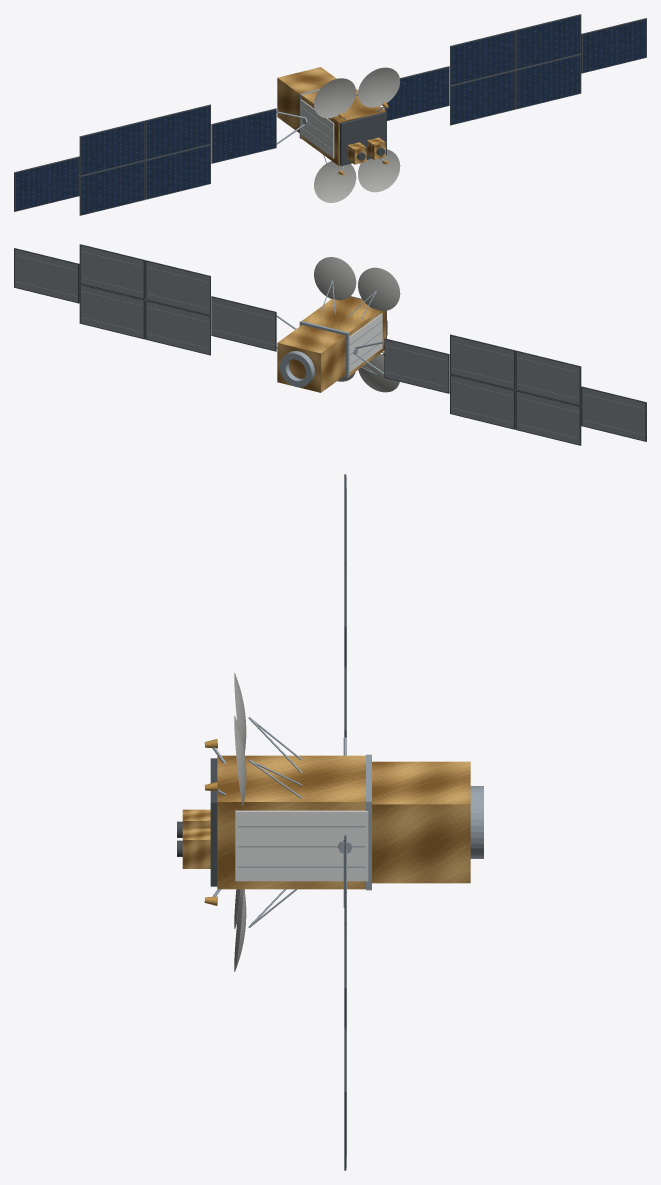
File: ref-eurostar-neo-54048.glb
3 renders of one model, top to bottom at view 1: azimuth 30°, elevation 25°; view 2: azimuth 150°, elevation 25°; view 3: azimuth 270°, elevation 25°, orthographic. The views are drawn at different scales.
Parts seen in each view (by area): view 1: Solar cell panel (×12), Communications reflector (×4), Solar panel frame (×11), Service module, Earth-facing deck, Radiator face, Payload module, Communications feed assembly (×2); view 2: Rear array substrate (×12), Solar panel frame (×12), Communications reflector (×3), Service module, Payload module, Radiator face, Launch adapter ring, Module interface; view 3: Service module, Payload module, Radiator face, Communications feed assembly, Launch adapter ring, Earth-facing deck.
Boxes of the visible parts, x1,y1,x2,y2 form: Solar cell panel (×12): [15, 15, 645, 214]; Communications reflector (×4): [314, 67, 400, 202]; Solar panel frame (×11): [14, 14, 646, 215]; Service module: [277, 67, 336, 132]; Earth-facing deck: [339, 112, 386, 165]; Radiator face: [300, 99, 334, 158]; Payload module: [301, 89, 386, 165]; Communications feed assembly (×2): [347, 137, 385, 164]; Rear array substrate (×12): [15, 245, 645, 444]; Solar panel frame (×12): [14, 244, 646, 445]; Communications reflector (×3): [314, 257, 400, 392]; Service module: [277, 325, 345, 392]; Payload module: [302, 296, 386, 375]; Radiator face: [349, 313, 382, 372]; Launch adapter ring: [280, 351, 314, 387]; Module interface: [299, 321, 349, 377]; Service module: [372, 761, 470, 883]; Payload module: [217, 755, 365, 889]; Radiator face: [235, 810, 368, 881]; Communications feed assembly: [182, 828, 210, 868]; Launch adapter ring: [470, 786, 483, 858]; Earth-facing deck: [210, 758, 217, 886].
Size of the model in its own units: 39.96 by 7.45 by 8.4.
8 materials, 2 textured.
